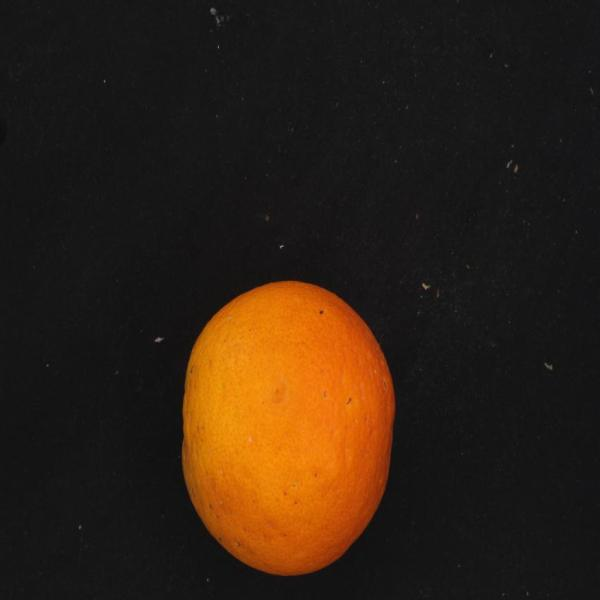Sana: (178, 263, 397, 578)
